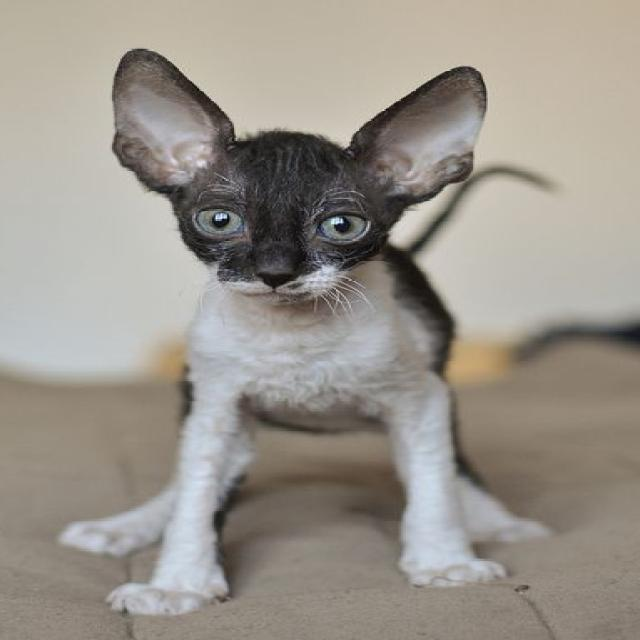Cornish Rex: (54, 45, 566, 621)
